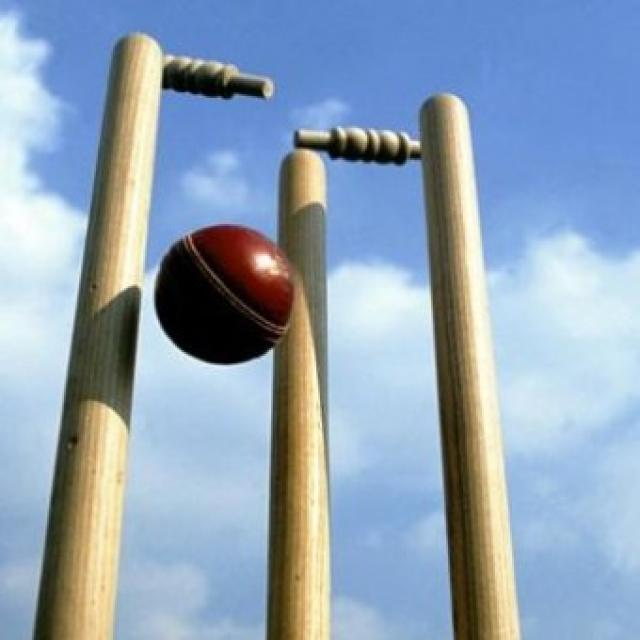ball: (150, 225, 299, 365)
stump: (30, 23, 526, 639)
